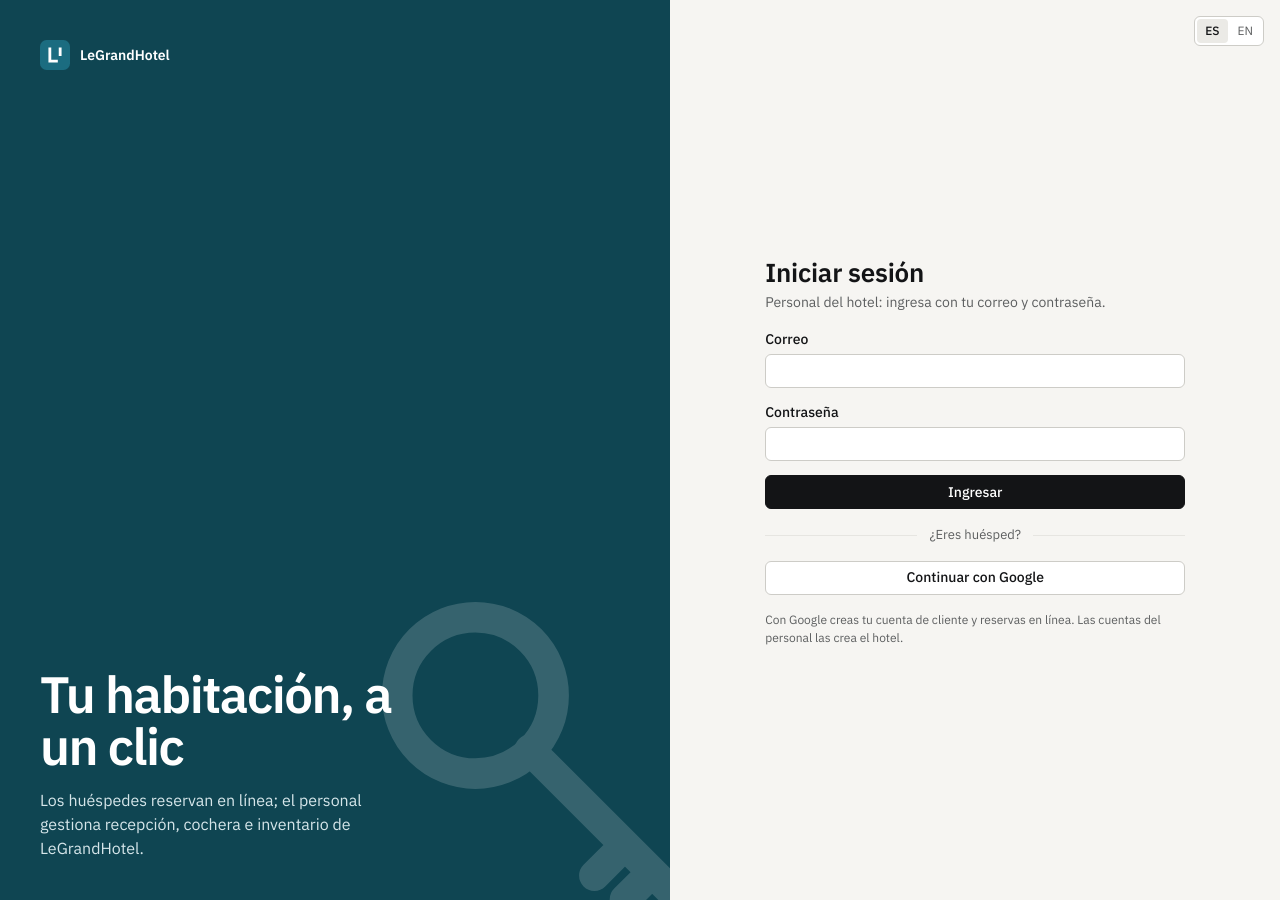
formularios de acceso › tras una contraseña incorrecta bloquea el botón con una cuenta regresiva
Type "a@b.pe" into the field labelled "Correo" at (975, 371), box [765, 354, 1185, 388]
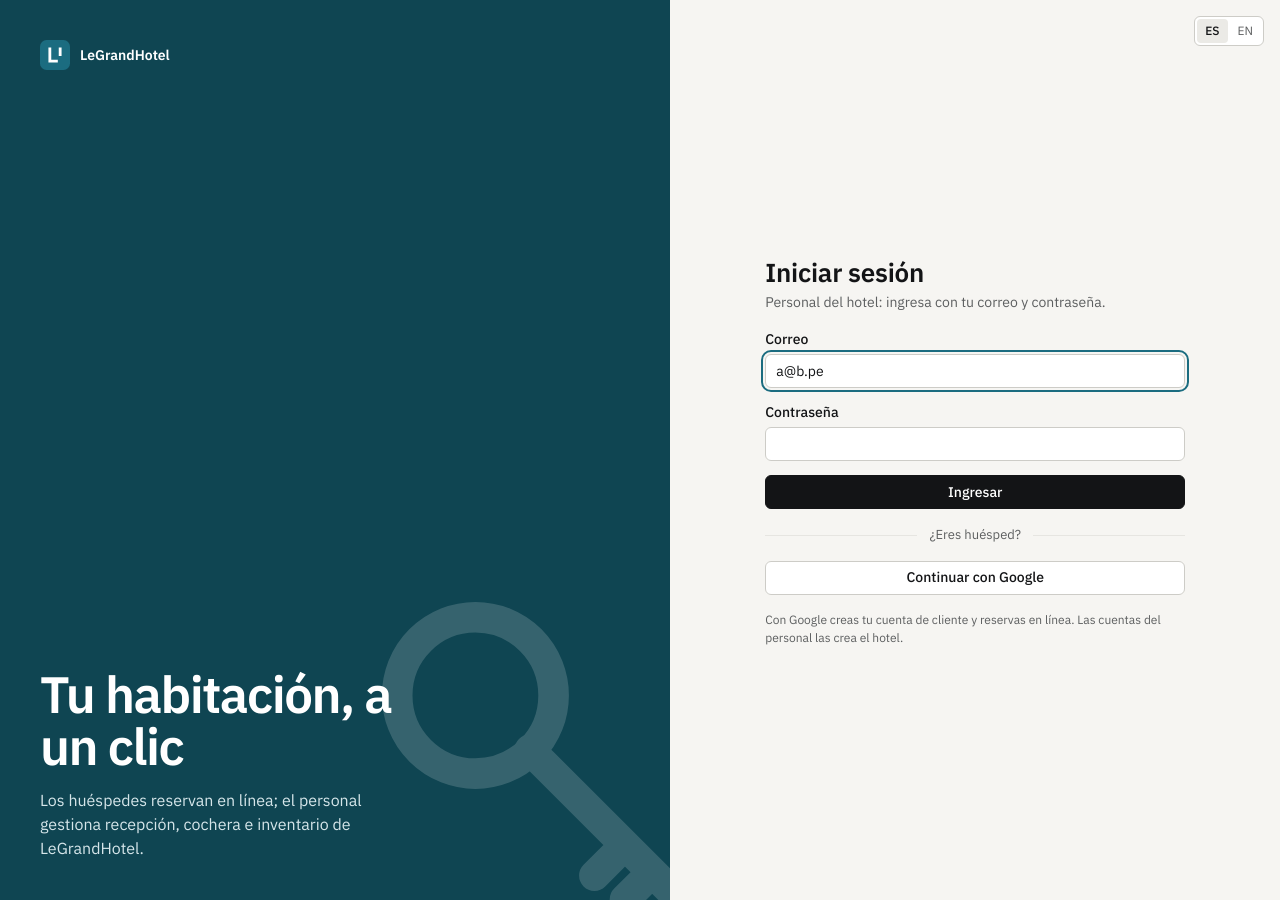
Type "mala" into the password field labelled "Contraseña" at (975, 444), box [765, 427, 1185, 461]
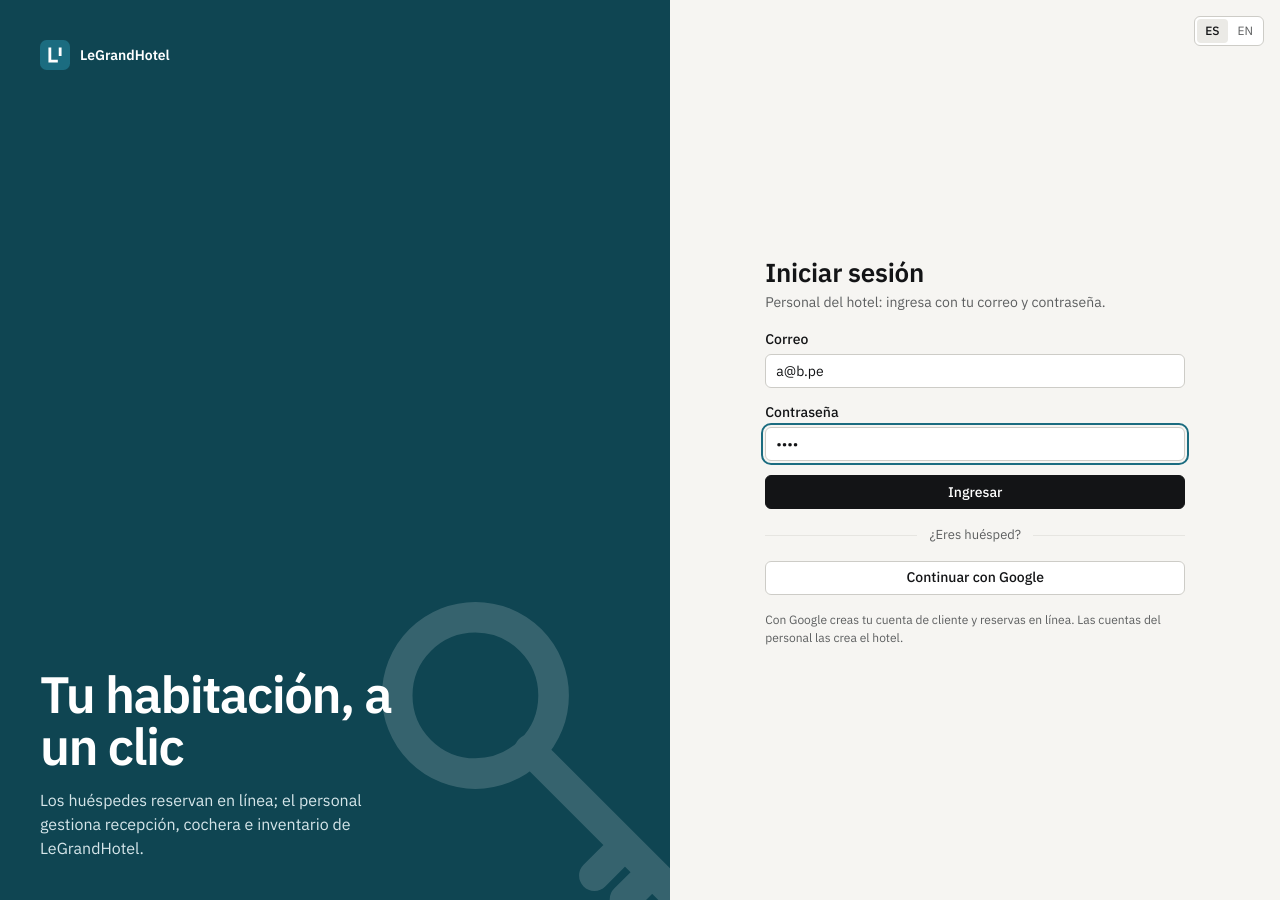
Click the button "Ingresar" at (975, 492), box [765, 475, 1185, 509]
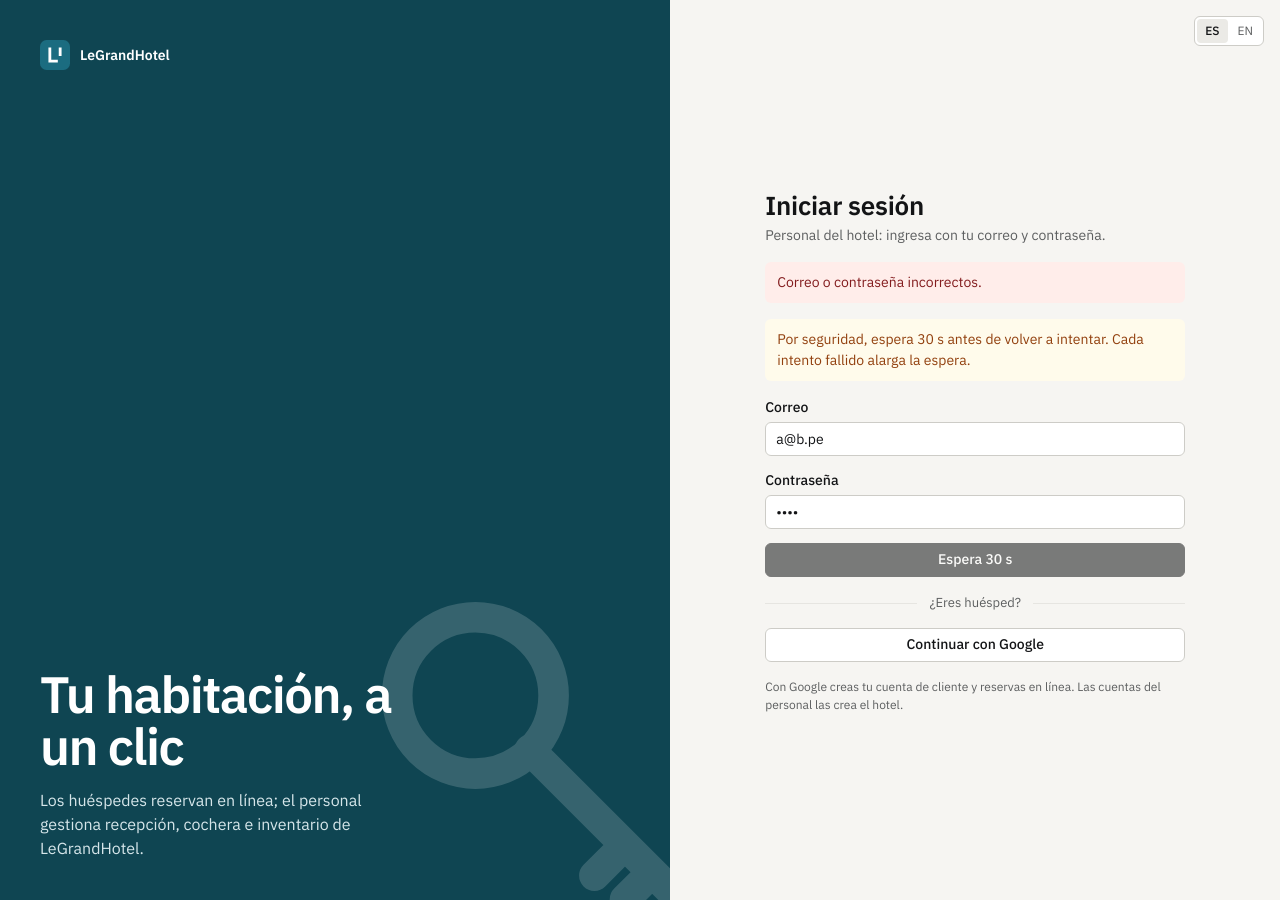
Check: the button "Espera 30 s" is disabled, box [765, 543, 1185, 577]
Check: the text "espera 30 s antes de volver a intentar" is shown, box [777, 330, 1144, 369]
Check: the message "Correo o contraseña incorrectos." is shown, box [765, 262, 1185, 303]
